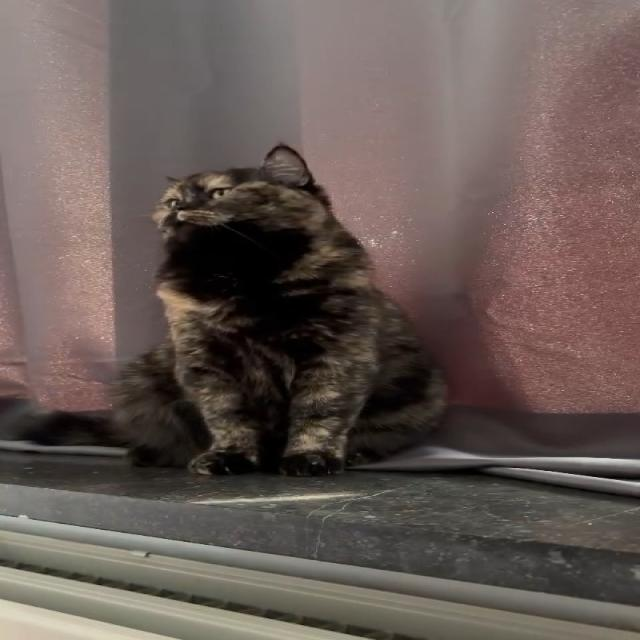authorized: (106, 142, 450, 477)
